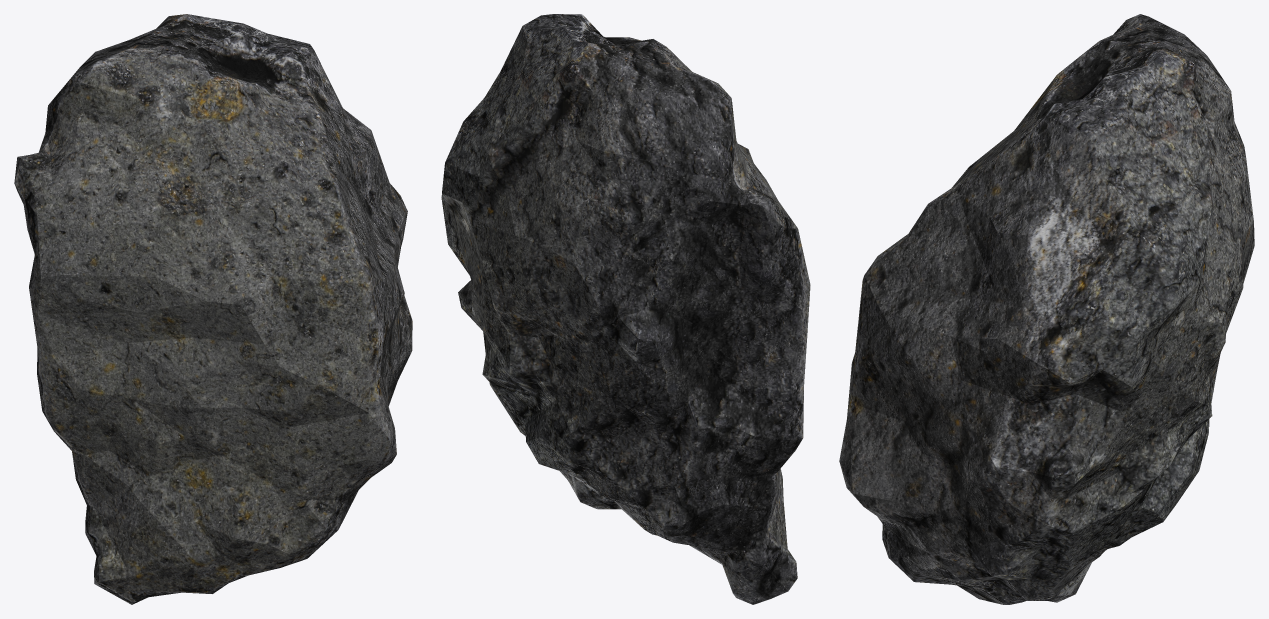
File: MIL15307-5.fbx
The picture shows the model from 3 angles, left to right: view 1: azimuth 30°, elevation 25°; view 2: azimuth 150°, elevation 25°; view 3: azimuth 270°, elevation 25°; orthographic projection. The views are drawn at different scales.
Visible parts, largest first — view 1: MIL15307-5; view 2: MIL15307-5; view 3: MIL15307-5.
Boxes of the visible parts, bbox=[...] form: MIL15307-5: bbox=[14, 14, 412, 604]; MIL15307-5: bbox=[441, 14, 810, 604]; MIL15307-5: bbox=[839, 14, 1254, 604].
Size of the model in its own units: 25.67 by 37.14 by 23.67.
